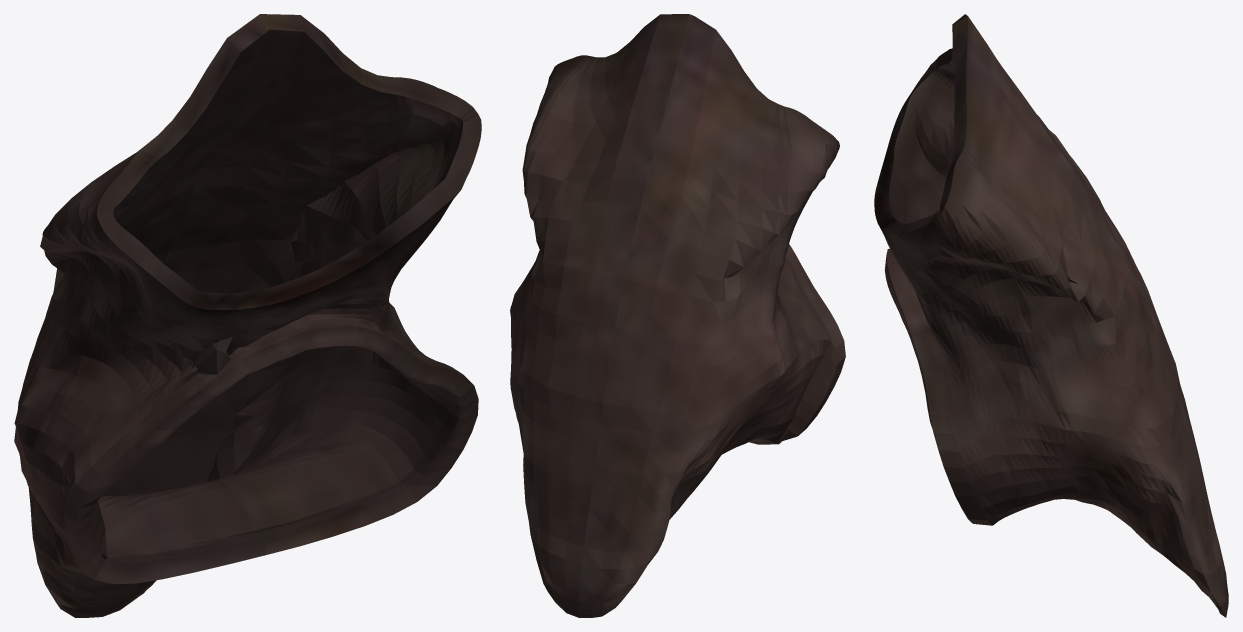
Rendered from mhw_donitz_monk_robe_hood_off.glb.
The picture shows the model from 3 angles, left to right: view 1: azimuth 30°, elevation 25°; view 2: azimuth 150°, elevation 25°; view 3: azimuth 270°, elevation 25°; orthographic projection. The views are drawn at different scales.
Visible parts, largest first — view 1: mhw_donitz_monk_robe_hood_off; view 2: mhw_donitz_monk_robe_hood_off; view 3: mhw_donitz_monk_robe_hood_off.
Boxes of the visible parts, <box> form: mhw_donitz_monk_robe_hood_off: <box>14,14,481,617</box>; mhw_donitz_monk_robe_hood_off: <box>510,14,845,617</box>; mhw_donitz_monk_robe_hood_off: <box>874,14,1228,617</box>.
Bounding box in the file's own units: 0.2136 × 0.3631 × 0.1952.
Materials: 1 (1 with a texture image).
